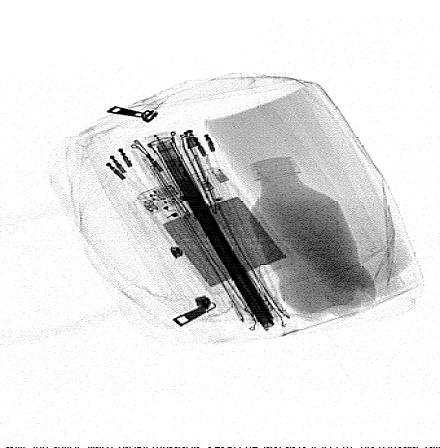Powerbank: (136, 166, 293, 297)
